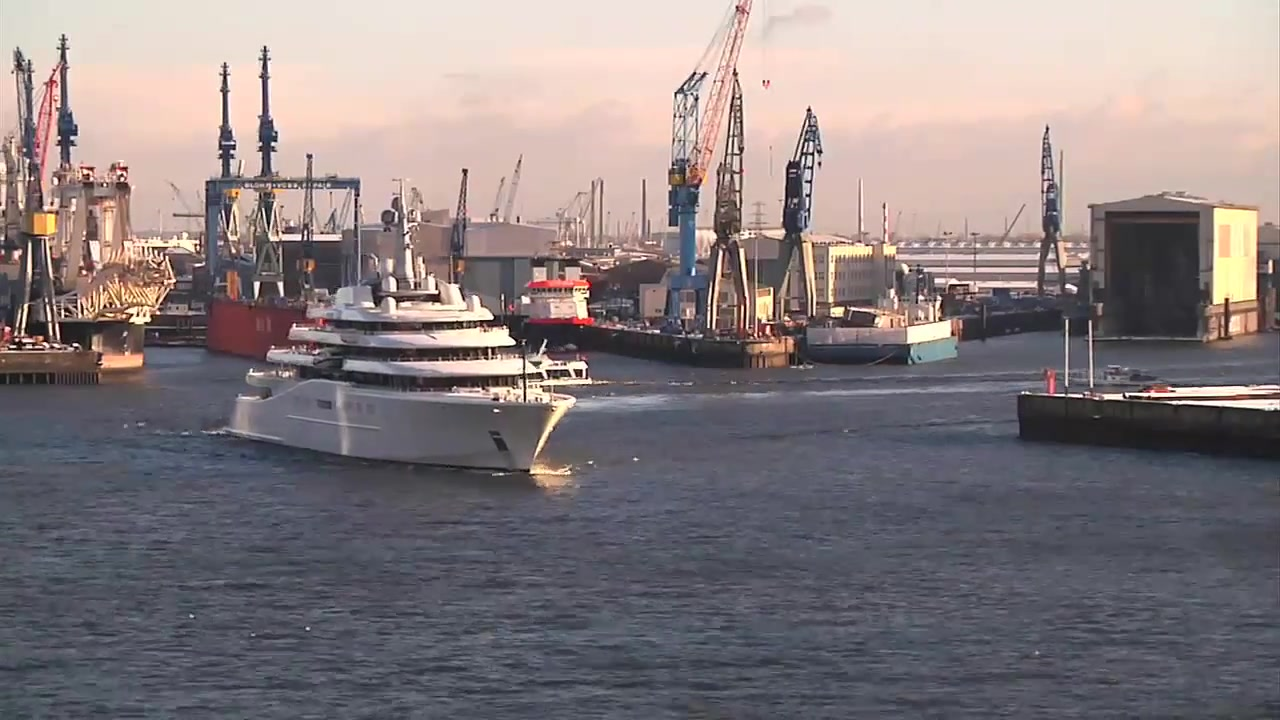boat: (223, 177, 580, 476)
